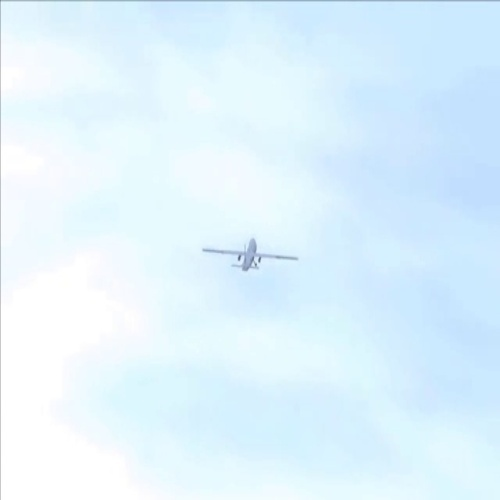uav: (198, 236, 300, 279)
